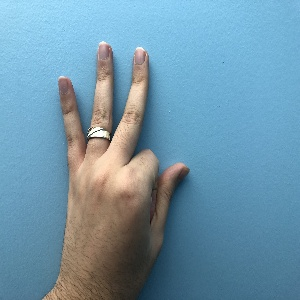hand: (58, 41, 190, 271)
